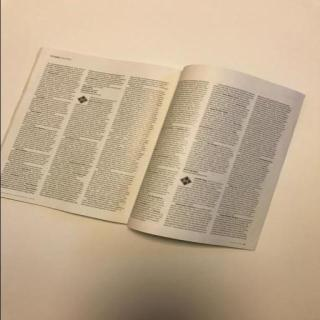Anorganik: (0, 38, 311, 251)
